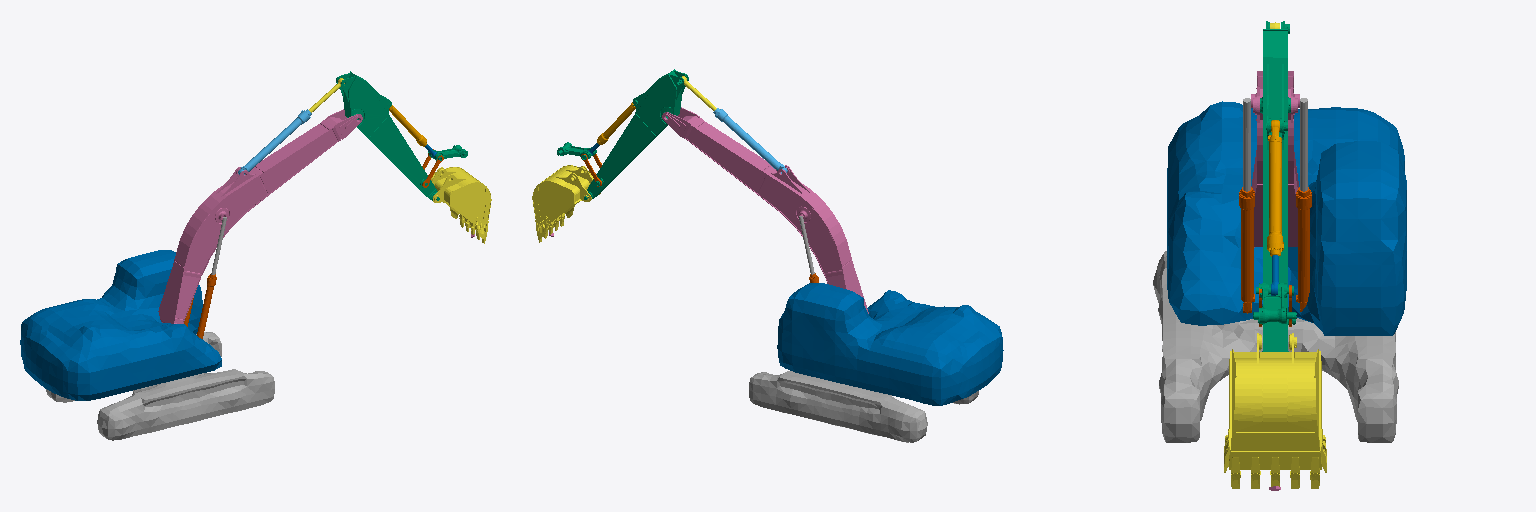
robot.urdf — zx200:
<?xml version="1.0" encoding="UTF-8"?>
<robot name="zx200">
  <joint name="world_joint" type="fixed">
    <origin xyz="0. 0. 0." rpy="0. 0. 0. "/>
    <parent link="world_link"/>
    <child link="caterpillar_link"/>
  </joint>
  <joint name="arm_cylinder_joint" type="continuous">
    <origin xyz="3.245 0. 1.1624" rpy="0. 0.1361008 0. "/>
    <parent link="boom_link"/>
    <child link="arm_cylinder_link"/>
    <axis xyz="0. 1. 0."/>
  </joint>
  <joint name="arm_joint" type="revolute">
    <origin xyz="5.68 0. 0. " rpy="0. 1.5707963 0. "/>
    <parent link="boom_link"/>
    <child link="arm_link"/>
    <axis xyz="0. 1. 0."/>
    <limit lower="-1.05" upper="1.1400001" effort="1e8" velocity="0.5"/>
  </joint>
  <joint name="arm_piston_joint" type="prismatic">
    <origin xyz="0.91 0. 0. " rpy="0. 0. 0."/>
    <parent link="arm_cylinder_link"/>
    <child link="arm_piston_link"/>
    <axis xyz="1. 0. 0."/>
    <limit lower="-0.85567" upper="0.93719" effort="1e8" velocity="0."/>
  </joint>
  <joint name="body_joint" type="revolute">
    <origin xyz="0. 0. 0.9069" rpy="0. 0. 0."/>
    <parent link="caterpillar_link"/>
    <child link="body_link"/>
    <axis xyz="0. 0. 1."/>
    <limit lower="-3.14159265359" upper="3.14159265359" effort="1e8" velocity="0.2"/>
  </joint>
  <joint name="boom_cylinder_joint" type="continuous">
    <origin xyz="0.6640044 -0.0000005 0.3249987" rpy="0. -1.3420005 0. "/>
    <parent link="body_link"/>
    <child link="boom_cylinder_link"/>
    <axis xyz="0. 1. 0."/>
  </joint>
  <joint name="boom_joint" type="revolute">
    <origin xyz="0.18 -0.04 0.93" rpy="0. -0.6999992 0. "/>
    <parent link="body_link"/>
    <child link="boom_link"/>
    <axis xyz="0. 1. 0."/>
    <limit lower="-0.5" upper="1.2" effort="1e8" velocity="0.6159937255"/>
  </joint>
  <joint name="boom_piston_joint" type="prismatic">
    <origin xyz="1.3019998 0. 0. " rpy="0. 0. 0."/>
    <parent link="boom_cylinder_link"/>
    <child link="boom_piston_link"/>
    <axis xyz="1. 0. 0."/>
    <limit lower="-10." upper="10." effort="1e8" velocity="0."/>
  </joint>
  <joint name="bucket_cylinder_joint" type="continuous">
    <origin xyz="0.4174586 -0. 0.6374535" rpy="0. 0.0261768 0. "/>
    <parent link="arm_link"/>
    <child link="bucket_cylinder_link"/>
    <axis xyz="0. 1. 0."/>
  </joint>
  <joint name="bucket_end_joint" type="fixed">
    <origin xyz="0.0000002 0. 1.23 " rpy="0. 0.8726646 0. "/>
    <parent link="bucket_link"/>
    <child link="bucket_end_link"/>
  </joint>
  <joint name="bucket_h_linkage_joint" type="continuous">
    <origin xyz="0.6030336 -0.0000001 0.0162055" rpy="0. 1.0317165 0. "/>
    <parent link="bucket_side_linkage_link"/>
    <child link="bucket_h_linkage_link"/>
    <axis xyz="0. 1. 0."/>
  </joint>
  <joint name="bucket_joint" type="revolute">
    <origin xyz="2.915 -0.0000011 0. " rpy="0. 0. 0."/>
    <parent link="arm_link"/>
    <child link="bucket_link"/>
    <axis xyz="0. 1. 0."/>
    <limit lower="-0.216" upper="2.4500001" effort="1e8" velocity="0.5"/>
  </joint>
  <joint name="bucket_piston_joint" type="prismatic">
    <origin xyz="0.4318195 0. 0.0276022" rpy="0. 0.0000032 0. "/>
    <parent link="bucket_cylinder_link"/>
    <child link="bucket_piston_link"/>
    <axis xyz="1. 0. 0."/>
    <limit lower="-0.08" upper="1.035" effort="1e8" velocity="0."/>
  </joint>
  <joint name="bucket_side_linkage_joint" type="continuous">
    <origin xyz="2.4675 0. 0.0397" rpy="3.1415927 -1.2978926 3.1415927"/>
    <parent link="arm_link"/>
    <child link="bucket_side_linkage_link"/>
    <axis xyz="0. 1. 0."/>
  </joint>
  <joint name="tooth_joint" type="fixed">
    <origin xyz="1.473 0.0000011 -0.0000002" rpy="0. 0.0000001 0. "/>
    <parent link="bucket_link"/>
    <child link="tooth_link"/>
  </joint>
  <link name="world_link"/>
  <link name="arm_cylinder_link">
    <inertial>
      <origin xyz="0. 0. 0." rpy="0. 0. 0."/>
      <mass value="65.8099976"/>
      <inertia ixx="0.1" ixy="0." ixz="0." iyy="9.95" iyz="0." izz="9.95"/>
    </inertial>
    <visual>
      <origin xyz="0. 0. 0." rpy="0. 0. 0."/>
      <geometry>
        <mesh filename="package://zx200_description/meshes/arm_cylinder.dae" scale="1. 1. 1."/>
      </geometry>
    </visual>
    <collision>
      <origin xyz="0. 0. 0." rpy="0. 0. 0."/>
      <geometry>
        <mesh filename="package://zx200_description/meshes/arm_cylinder.dae" scale="1. 1. 1."/>
      </geometry>
    </collision>
  </link>
  <link name="arm_link">
    <inertial>
      <origin xyz="0. 0. 0." rpy="0. 0. 0."/>
      <mass value="480."/>
      <inertia ixx="14.24" ixy="0." ixz="31.36" iyy="319.92" iyz="0." izz="309.47"/>
    </inertial>
    <visual>
      <origin xyz="0. 0. 0." rpy="0. 0. 0."/>
      <geometry>
        <mesh filename="package://zx200_description/meshes/arm.dae" scale="1. 1. 1."/>
      </geometry>
    </visual>
    <collision>
      <origin xyz="0. 0. 0." rpy="0. 0. 0."/>
      <geometry>
        <mesh filename="package://zx200_description/meshes/arm_link_arm_collision_geometry_arm_collision.dae" scale="1. 1. 1."/>
      </geometry>
    </collision>
  </link>
  <link name="arm_piston_link">
    <inertial>
      <origin xyz="0. 0. 0." rpy="0. 0. 0."/>
      <mass value="48.1800003"/>
      <inertia ixx="0.01" ixy="0." ixz="0." iyy="9.83" iyz="0." izz="9.83"/>
    </inertial>
    <visual>
      <origin xyz="0. 0. 0." rpy="0. 0. 0."/>
      <geometry>
        <mesh filename="package://zx200_description/meshes/arm_piston.dae" scale="1. 1. 1."/>
      </geometry>
    </visual>
    <collision>
      <origin xyz="0. 0. 0." rpy="0. 0. 0."/>
      <geometry>
        <mesh filename="package://zx200_description/meshes/arm_piston.dae" scale="1. 1. 1."/>
      </geometry>
    </collision>
  </link>
  <link name="body_link">
    <inertial>
      <origin xyz="0. 0. 0." rpy="0. 0. 0."/>
      <mass value="7000."/>
      <inertia ixx="4751.6" ixy="-127.4" ixz="348.5" iyy="5734.1" iyz="-68.7" izz="9065.9"/>
    </inertial>
    <visual>
      <origin xyz="0. 0. 0." rpy="0. 0. 0."/>
      <geometry>
        <mesh filename="package://zx200_description/meshes/body.dae" scale="1. 1. 1."/>
      </geometry>
    </visual>
    <collision>
      <origin xyz="0. 0. 0." rpy="0. 0. 0."/>
      <geometry>
        <mesh filename="package://zx200_description/meshes/body.dae" scale="1. 1. 1."/>
      </geometry>
    </collision>
  </link>
  <link name="boom_cylinder_link">
    <inertial>
      <origin xyz="0. 0. 0." rpy="0. 0. 0."/>
      <mass value="131.6199951"/>
      <inertia ixx="9.216249" ixy="0." ixz="0." iyy="27.606432" iyz="0." izz="36.503907"/>
    </inertial>
    <visual>
      <origin xyz="0.0000003 0.0000005 0.0000046" rpy="0. 0.0000004 0. "/>
      <geometry>
        <mesh filename="package://zx200_description/meshes/boom_cylinders.dae" scale="1. 1. 1."/>
      </geometry>
    </visual>
    <collision>
      <origin xyz="0.0000003 0.0000005 0.0000046" rpy="0. 0.0000004 0. "/>
      <geometry>
        <mesh filename="package://zx200_description/meshes/boom_cylinders.dae" scale="1. 1. 1."/>
      </geometry>
    </collision>
  </link>
  <link name="boom_link">
    <inertial>
      <origin xyz="0. 0. 0." rpy="0. 0. 0."/>
      <mass value="1010."/>
      <inertia ixx="103.9" ixy="0." ixz="44.8" iyy="1574.1" iyz="0." izz="1489.6"/>
    </inertial>
    <visual>
      <origin xyz="0. 0. 0." rpy="0. 0. 0."/>
      <geometry>
        <mesh filename="package://zx200_description/meshes/boom.dae" scale="1. 1. 1."/>
      </geometry>
    </visual>
    <collision>
      <origin xyz="0. 0. 0." rpy="0. 0. 0."/>
      <geometry>
        <mesh filename="package://zx200_description/meshes/boom_link_boom_collision_geometry_boom_collision.dae" scale="1. 1. 1."/>
      </geometry>
    </collision>
  </link>
  <link name="boom_piston_link">
    <inertial>
      <origin xyz="0. 0. 0." rpy="0. 0. 0."/>
      <mass value="78.0800018"/>
      <inertia ixx="6.6836" ixy="0." ixz="0." iyy="22.5995" iyz="0." izz="29.2292"/>
    </inertial>
    <visual>
      <origin xyz="0.0000004 0.0000005 0.0000041" rpy="0. 0.0000004 0. "/>
      <geometry>
        <mesh filename="package://zx200_description/meshes/boom_pistons.dae" scale="1. 1. 1."/>
      </geometry>
    </visual>
    <collision>
      <origin xyz="0.0000004 0.0000005 0.0000041" rpy="0. 0.0000004 0. "/>
      <geometry>
        <mesh filename="package://zx200_description/meshes/boom_pistons.dae" scale="1. 1. 1."/>
      </geometry>
    </collision>
  </link>
  <link name="bucket_cylinder_link">
    <inertial>
      <origin xyz="0. 0. 0." rpy="0. 0. 0."/>
      <mass value="65.8099976"/>
      <inertia ixx="0.1" ixy="0." ixz="0." iyy="9.95" iyz="0." izz="9.95"/>
    </inertial>
    <visual>
      <origin xyz="0.0018195 0. 0.0276036" rpy="0. 0.0000032 0. "/>
      <geometry>
        <mesh filename="package://zx200_description/meshes/bucket_cylinder.dae" scale="1. 1. 1."/>
      </geometry>
    </visual>
    <collision>
      <origin xyz="0.0018195 0. 0.0276036" rpy="0. 0.0000032 0. "/>
      <geometry>
        <mesh filename="package://zx200_description/meshes/bucket_cylinder.dae" scale="1. 1. 1."/>
      </geometry>
    </collision>
  </link>
  <link name="bucket_end_link">
    <inertial>
      <origin xyz="0. 0. 0." rpy="0. 0. 0."/>
      <mass value="0.001"/>
      <inertia ixx="1e-6" ixy="0." ixz="0." iyy="1e-6" iyz="0." izz="1e-6"/>
    </inertial>
  </link>
  <link name="bucket_h_linkage_link">
    <inertial>
      <origin xyz="0. 0. 0." rpy="0. 0. 0."/>
      <mass value="57.4500008"/>
      <inertia ixx="0.29" ixy="0." ixz="0." iyy="1.63" iyz="0." izz="1.88"/>
    </inertial>
    <visual>
      <origin xyz="-0.0000002 0.0000001 0.0000001" rpy="0. 0.0000001 0. "/>
      <geometry>
        <mesh filename="package://zx200_description/meshes/bucket_linkage_H_link.dae" scale="1. 1. 1."/>
      </geometry>
    </visual>
    <collision>
      <origin xyz="-0.0000002 0.0000001 0.0000001" rpy="0. 0.0000001 0. "/>
      <geometry>
        <mesh filename="package://zx200_description/meshes/bucket_linkage_H_link.dae" scale="1. 1. 1."/>
      </geometry>
    </collision>
  </link>
  <link name="bucket_link">
    <inertial>
      <origin xyz="0. 0. 0." rpy="0. 0. 0."/>
      <mass value="351.5"/>
      <inertia ixx="51.39" ixy="0." ixz="10.40" iyy="77.64" iyz="0." izz="91.99"/>
    </inertial>
    <visual>
      <origin xyz="0. 0.0000011 0. " rpy="0. 0.0000001 0. "/>
      <geometry>
        <mesh filename="package://zx200_description/meshes/bucket.dae" scale="1. 1. 1."/>
      </geometry>
    </visual>
    <collision>
      <origin xyz="0. 0.0000011 0. " rpy="0. 0.0000001 0. "/>
      <geometry>
        <mesh filename="package://zx200_description/meshes/bucket_link_bucket_collision_geometry_bucket_collision.dae" scale="1. 1. 1."/>
      </geometry>
    </collision>
  </link>
  <link name="bucket_piston_link">
    <inertial>
      <origin xyz="0. 0. 0." rpy="0. 0. 0."/>
      <mass value="48.1899986"/>
      <inertia ixx="0.01" ixy="0." ixz="0." iyy="9.83" iyz="0." izz="9.83"/>
    </inertial>
    <visual>
      <origin xyz="0. 0. 0." rpy="0. 0. 0."/>
      <geometry>
        <mesh filename="package://zx200_description/meshes/bucket_piston.dae" scale="1. 1. 1."/>
      </geometry>
    </visual>
    <collision>
      <origin xyz="0. 0. 0." rpy="0. 0. 0."/>
      <geometry>
        <mesh filename="package://zx200_description/meshes/bucket_piston.dae" scale="1. 1. 1."/>
      </geometry>
    </collision>
  </link>
  <link name="bucket_side_linkage_link">
    <inertial>
      <origin xyz="0. 0. 0." rpy="0. 0. 0."/>
      <mass value="16.3470993"/>
      <inertia ixx="0.2849" ixy="0." ixz="0." iyy="0.7623" iyz="0." izz="1.0241"/>
    </inertial>
    <visual>
      <origin xyz="0. 0. 0." rpy="0. 0. 0."/>
      <geometry>
        <mesh filename="package://zx200_description/meshes/bucket_linkages_side.dae" scale="1. 1. 1."/>
      </geometry>
    </visual>
    <collision>
      <origin xyz="0. 0. 0." rpy="0. 0. 0."/>
      <geometry>
        <mesh filename="package://zx200_description/meshes/bucket_linkages_side.dae" scale="1. 1. 1."/>
      </geometry>
    </collision>
  </link>
  <link name="tooth_link">
    <inertial>
      <origin xyz="0. 0. 0." rpy="0. 0. 0."/>
      <mass value="0.001"/>
      <inertia ixx="1e-6" ixy="0." ixz="0." iyy="1e-6" iyz="0." izz="1e-6"/>
    </inertial>
    <visual>
      <origin xyz="0. 0. 0." rpy="-0.785398 0. 0. "/>
      <geometry>
        <box size="0.03 0.09 0.1 "/>
      </geometry>
    </visual>
    <collision>
      <origin xyz="0. 0. 0." rpy="-0.785398 0. 0. "/>
      <geometry>
        <box size="0.03 0.09 0.1 "/>
      </geometry>
    </collision>
  </link>
  <link name="caterpillar_link">
    <inertial>
      <origin xyz="0. 0. 0." rpy="0. 0. 0."/>
      <mass value="5000."/>
      <inertia ixx="2000." ixy="0." ixz="0." iyy="4000." iyz="0." izz="6000."/>
    </inertial>
    <visual>
      <origin xyz="0. 0. 0." rpy="0. 0. 0."/>
      <geometry>
        <mesh filename="package://zx200_description/meshes/caterpillar.dae" scale="1. 1. 1."/>
      </geometry>
    </visual>
    <collision>
      <origin xyz="0. 0. 0." rpy="0. 0. 0."/>
      <geometry>
        <mesh filename="package://zx200_description/meshes/caterpillar.dae" scale="1. 1. 1."/>
      </geometry>
    </collision>
  </link>
</robot>

--- Facts derived from the render (not from the file) ---
3 views of the same robot in one strip: view 1: azimuth 30°, elevation 25°; view 2: azimuth 150°, elevation 25°; view 3: azimuth 270°, elevation 25° (orthographic).
Model zx200 with 16 links and 15 joints (4 revolute, 5 continuous, 3 prismatic, 3 fixed), rooted at world_link, posed all joints at 0.
Visible links, largest first — view 1: body_link, boom_link, caterpillar_link, arm_link, bucket_link, arm_cylinder_link, boom_cylinder_link; view 2: body_link, boom_link, caterpillar_link, arm_link, bucket_link, arm_cylinder_link; view 3: body_link, caterpillar_link, bucket_link, arm_link, boom_cylinder_link, boom_link, bucket_cylinder_link, boom_piston_link, bucket_h_linkage_link.
Boxes of the visible links, x1,y1,x2,y2 form: body_link: (20,250,221,400); boom_link: (158,109,362,323); caterpillar_link: (46,332,274,440); arm_link: (336,71,439,200); bucket_link: (431,167,491,243); arm_cylinder_link: (238,109,311,174); boom_cylinder_link: (184,274,216,338); body_link: (777,283,1003,405); boom_link: (662,107,868,313); caterpillar_link: (749,371,978,442); arm_link: (584,69,688,199); bucket_link: (532,165,600,242); arm_cylinder_link: (713,108,787,173); body_link: (1167,101,1406,335); caterpillar_link: (1153,251,1398,442); bucket_link: (1224,333,1326,488); arm_link: (1258,21,1295,351); boom_cylinder_link: (1239,187,1311,313); boom_link: (1251,71,1299,247); bucket_cylinder_link: (1267,120,1283,256); boom_piston_link: (1243,98,1307,191); bucket_h_linkage_link: (1253,283,1296,323).
Size in the robot's own frame: 10.39 by 2.82 by 6.4 metres.
Meshes: 13 distinct files referenced, 13 mesh visuals loaded (13 Collada DAE).